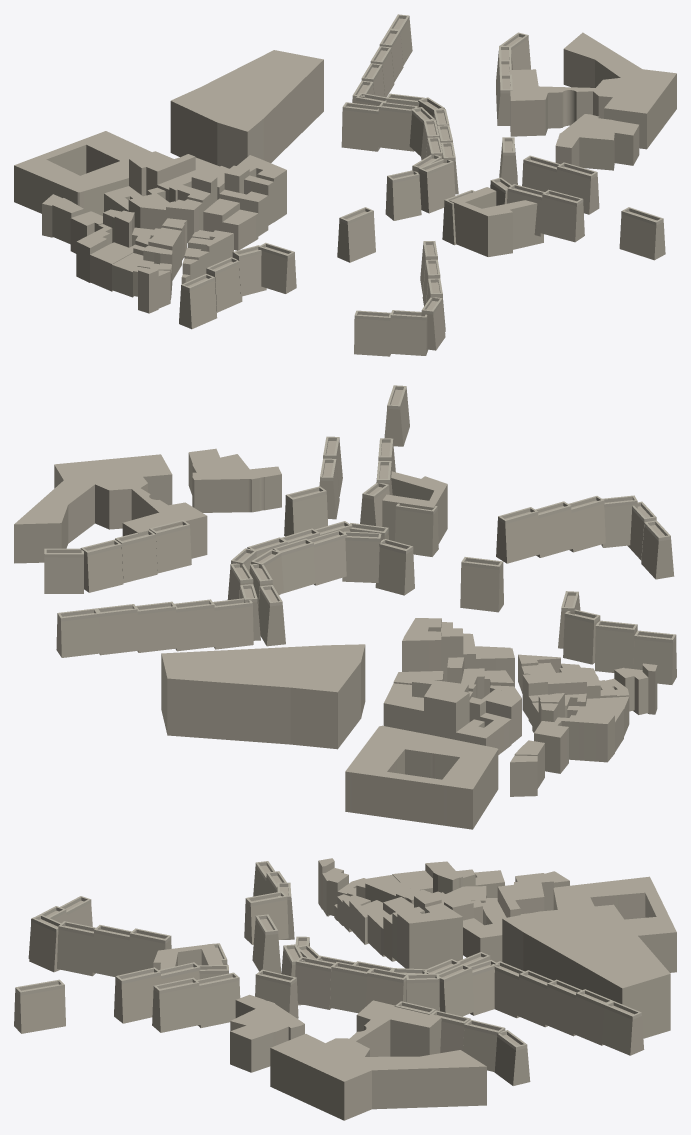
The model's file is bormla_61_27_collision.glb.
3 views of the same model, one above another, from view 1: azimuth 30°, elevation 25°; view 2: azimuth 150°, elevation 25°; view 3: azimuth 270°, elevation 25° (orthographic). The views are drawn at different scales.
Visible parts, largest first — view 1: geometry_0; view 2: geometry_0; view 3: geometry_0.
Boxes of the visible parts, box(x1,y1,x2,y2) form: geometry_0: box(14, 14, 676, 356); geometry_0: box(14, 385, 676, 829); geometry_0: box(14, 858, 676, 1120).
Size of the model in its own units: 211 by 38.98 by 200.
